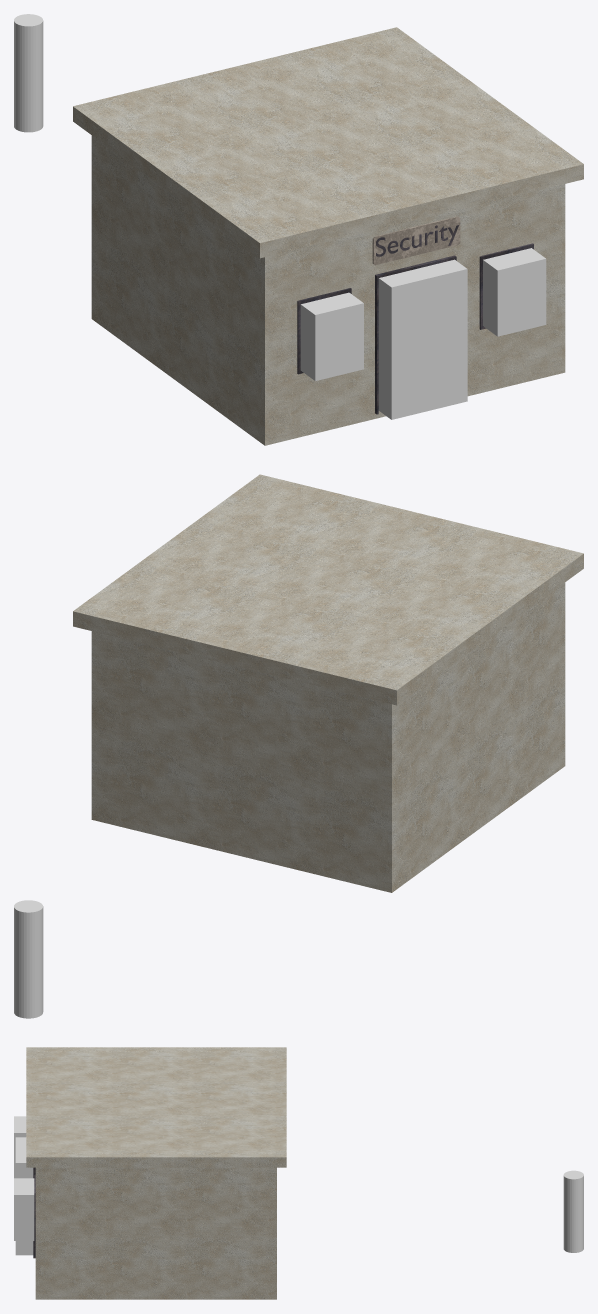
The model's file is security_shed.glb.
3 views of the same model, one above another, from view 1: azimuth 30°, elevation 25°; view 2: azimuth 150°, elevation 25°; view 3: azimuth 270°, elevation 25° (orthographic). The views are drawn at different scales.
Visible parts, largest first — view 1: Shed-col, DoorCut -noimp, WindowCut-noimp, ref-noimp, SecuritySign, Text; view 2: Shed-col, ref-noimp; view 3: Shed-col, ref-noimp, WindowCut-noimp, DoorCut -noimp.
Part boxes in pixels (left/top/right/bottom): Shed-col: left=73, top=27, right=583, bottom=445; DoorCut -noimp: left=378, top=259, right=467, bottom=419; WindowCut-noimp: left=300, top=248, right=546, bottom=380; ref-noimp: left=14, top=14, right=43, bottom=132; SecuritySign: left=372, top=216, right=460, bottom=265; Text: left=376, top=225, right=458, bottom=256; Shed-col: left=73, top=474, right=583, bottom=892; ref-noimp: left=14, top=900, right=43, bottom=1018; Shed-col: left=26, top=1047, right=286, bottom=1299; ref-noimp: left=563, top=1170, right=583, bottom=1252; WindowCut-noimp: left=14, top=1116, right=34, bottom=1240; DoorCut -noimp: left=15, top=1137, right=33, bottom=1255.
Bounding box in the file's own units: 6.4 × 3.97 × 14.
Materials: 5 (4 with a texture image).
